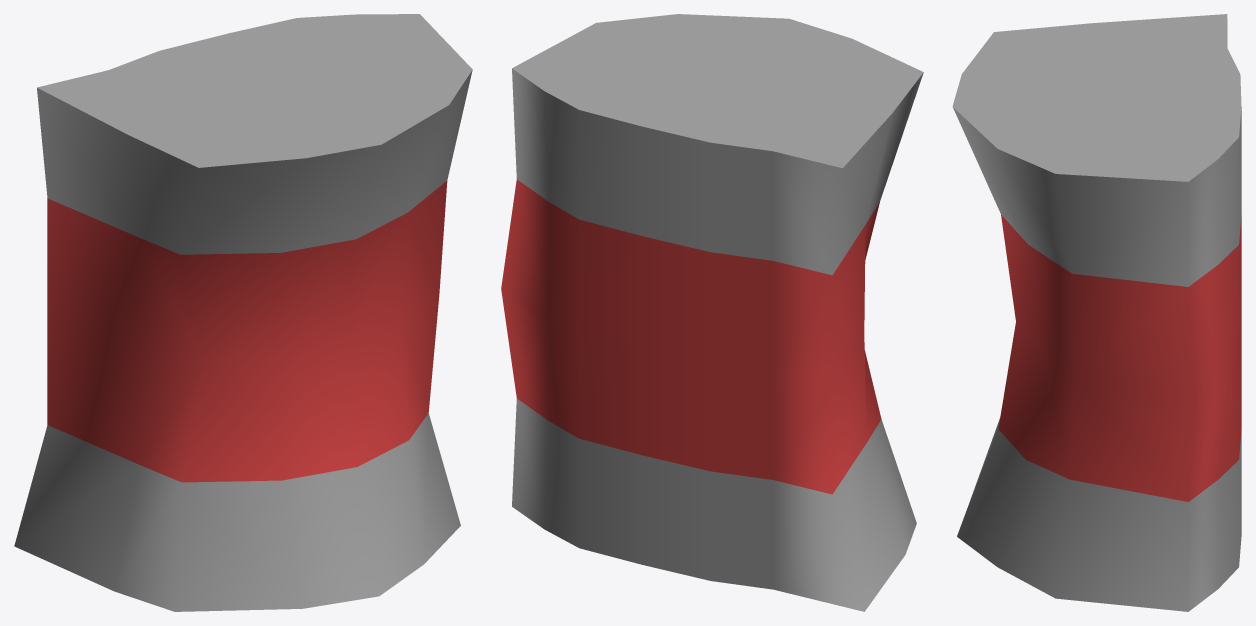
Rendered from Crushed Can.fbx.
3 views of the same model, side by side, from view 1: azimuth 30°, elevation 25°; view 2: azimuth 150°, elevation 25°; view 3: azimuth 270°, elevation 25° (orthographic). The views are drawn at different scales.
Parts seen in each view (by area): view 1: pCylinder1; view 2: pCylinder1; view 3: pCylinder1.
Boxes of the visible parts, bbox=[...] form: pCylinder1: bbox=[14, 14, 472, 611]; pCylinder1: bbox=[501, 14, 923, 611]; pCylinder1: bbox=[952, 14, 1241, 611].
Size of the model in its own units: 2.65 by 2.93 by 1.79.
